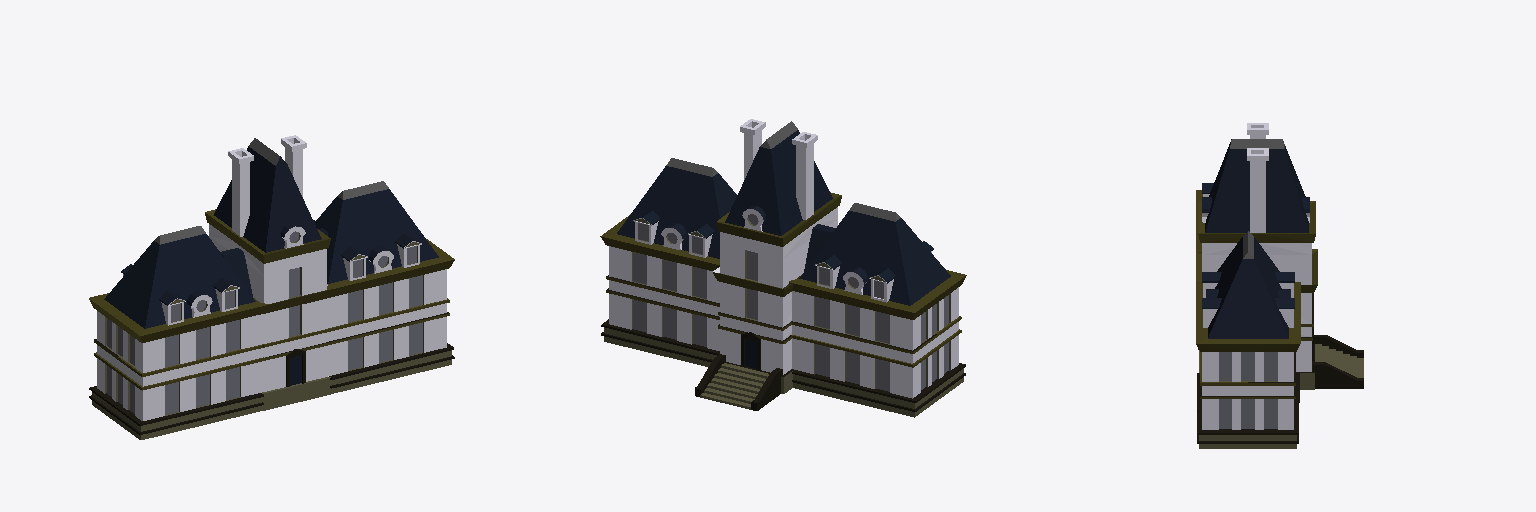
File: Palace_Norse.obj
3 views of the same model, side by side, from view 1: azimuth 30°, elevation 25°; view 2: azimuth 150°, elevation 25°; view 3: azimuth 270°, elevation 25° (orthographic).
Visible parts, largest first — view 1: SM_Palace; view 2: SM_Palace; view 3: SM_Palace.
Part boxes in pixels (left/top/right/bottom): SM_Palace: left=89, top=135, right=454, bottom=439; SM_Palace: left=600, top=119, right=966, bottom=417; SM_Palace: left=1196, top=123, right=1363, bottom=448.
Size of the model in its own units: 52.39 by 37.33 by 24.2.